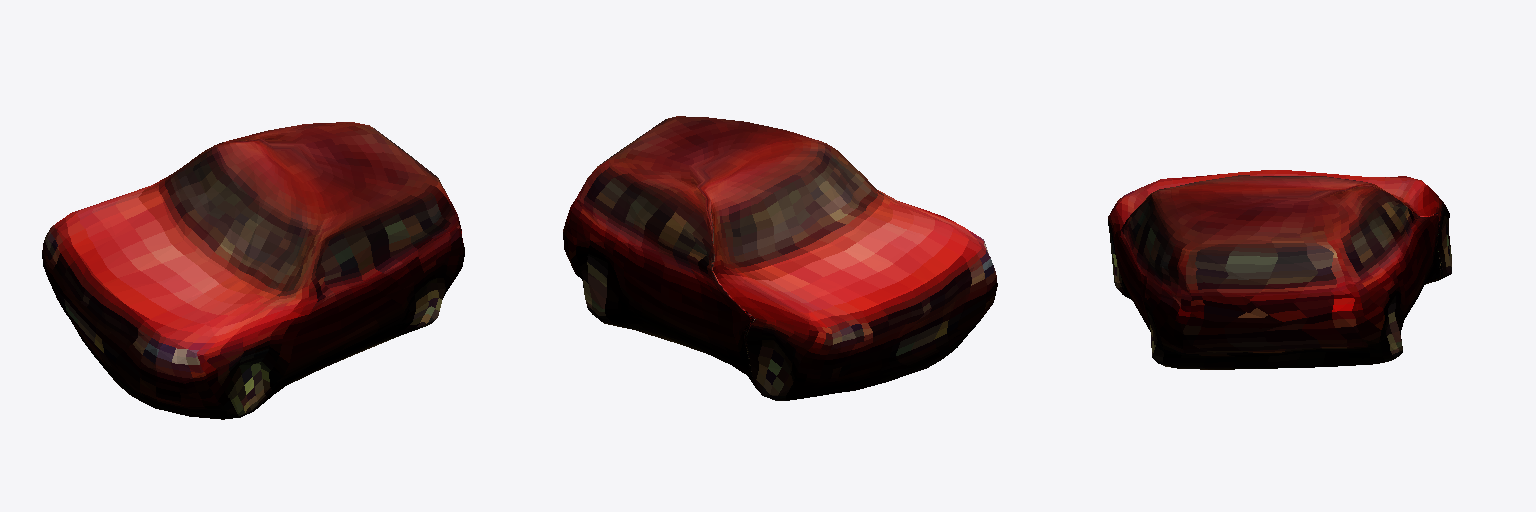
3 renders of one model, left to right at view 1: azimuth 30°, elevation 25°; view 2: azimuth 150°, elevation 25°; view 3: azimuth 270°, elevation 25°, orthographic.
Bounding box in the file's own units: 1 × 0.4895 × 0.8863.
Materials: 1 (1 with a texture image).